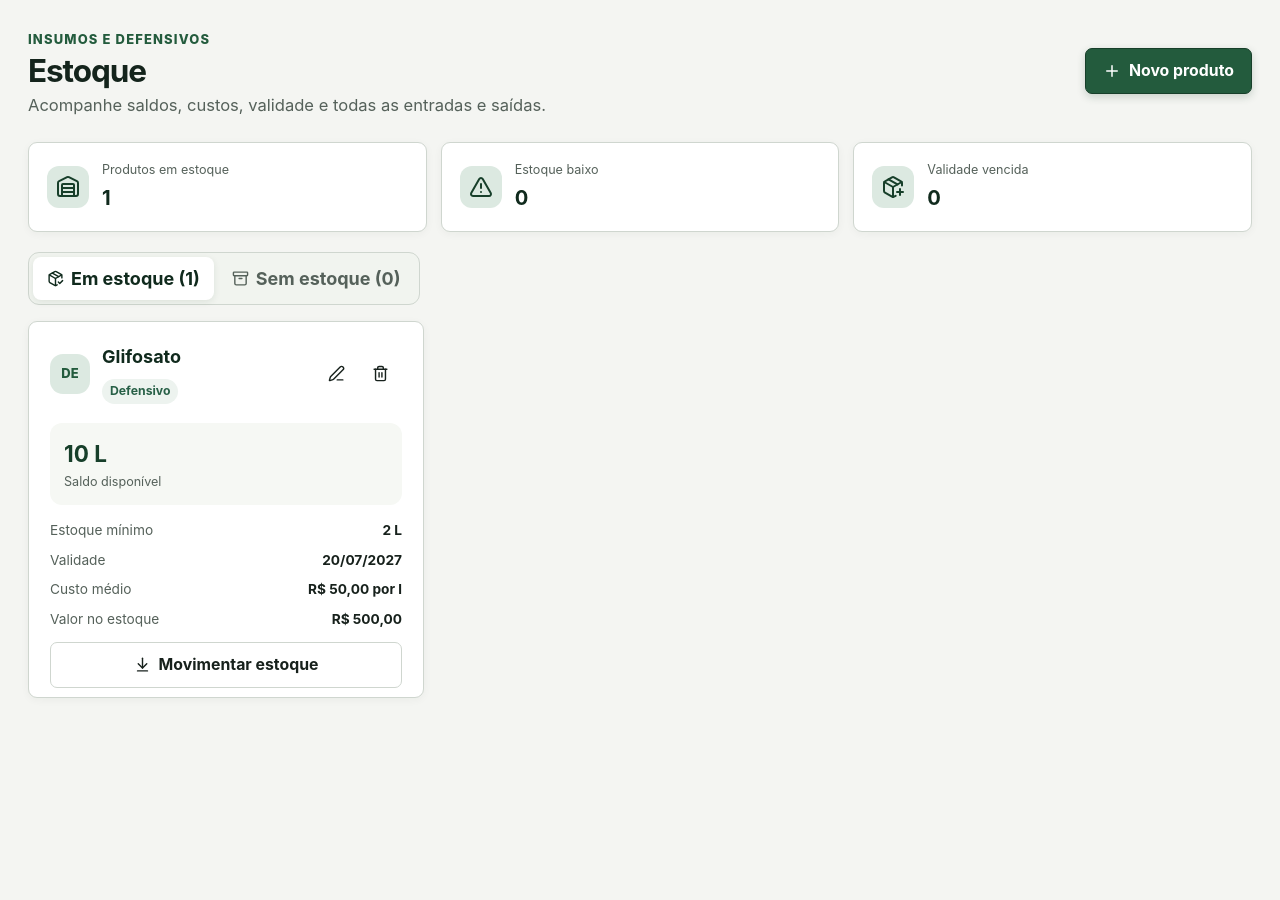
Test: InventoryPage › carrega os produtos e abre o histórico de movimentações
The width and height of the screenshot is (1280, 900).
Expected: the heading "Glifosato" is shown, [102,343,181,370]
Expected: the text "Saldo disponível" is shown, [64,474,161,488]
Click the button "Movimentar estoque" at x=226, y=664, box [50,642,402,688]
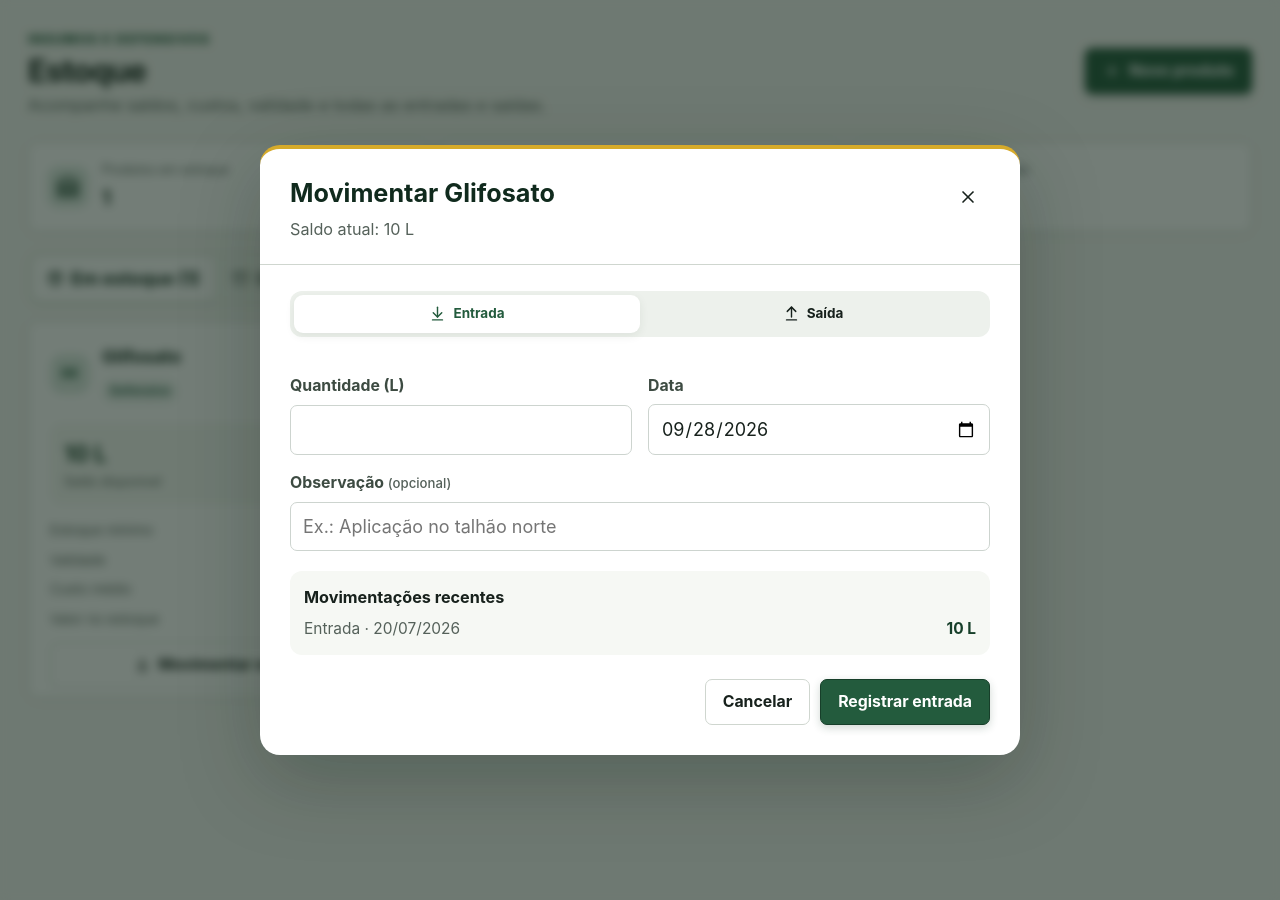
Result: the heading "Movimentar Glifosato" is shown at [290,175,555,213]
Result: the text "Movimentações recentes" is shown at [304,587,504,607]
